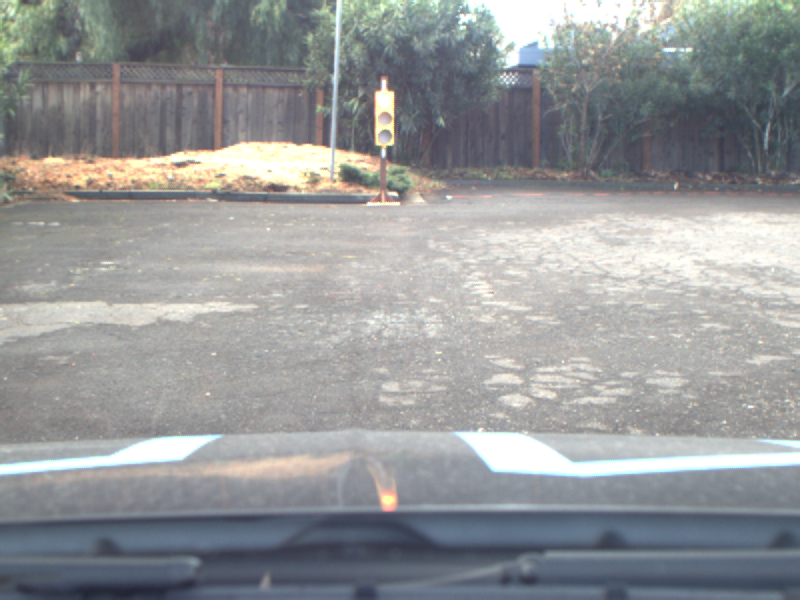Red: (374, 90, 394, 146)
